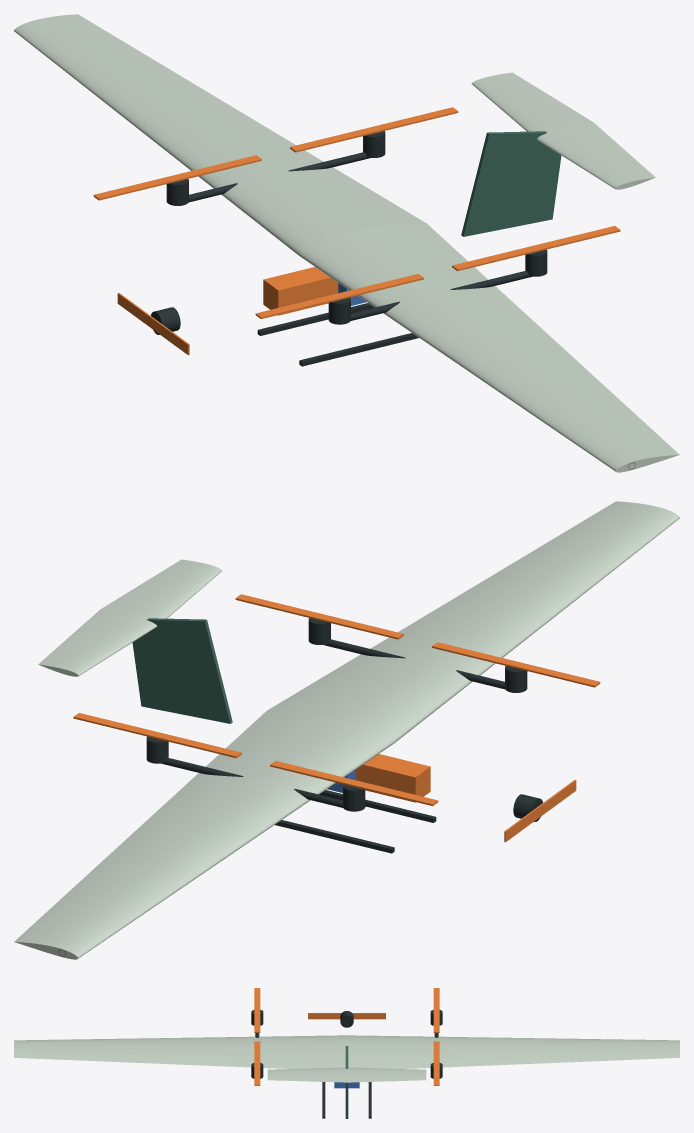
File: 03-internal.glb
3 renders of one model, top to bottom at view 1: azimuth 30°, elevation 25°; view 2: azimuth 150°, elevation 25°; view 3: azimuth 270°, elevation 25°, orthographic. The views are drawn at different scales.
Visible parts, largest first — view 1: wing-1, wing1, fin, tail-1, tail1, battery, prop_1_210.0, prop_1_700.0, prop_-1_210.0, prop_-1_700.0, cruise_prop, boom-1 (+3 smaller); view 2: wing1, wing-1, fin, tail1, tail-1, battery, prop_-1_210.0, prop_-1_700.0, prop_1_210.0, prop_1_700.0, cruise_prop, boom1 (+3 smaller); view 3: wing-1, wing1, tail-1, tail1, cruise_prop, prop_-1_210.0, prop_-1_700.0, prop_1_210.0, prop_1_700.0, fin.
Boxes of the visible parts, x1,y1,x2,y2 form: wing-1: (299, 223, 679, 472); wing1: (14, 14, 426, 255); fin: (461, 131, 561, 236); tail-1: (536, 122, 655, 189); tail1: (471, 72, 592, 131); battery: (263, 267, 338, 315); prop_1_210.0: (93, 155, 261, 200); prop_1_700.0: (290, 107, 458, 152); prop_-1_210.0: (255, 273, 423, 318); prop_-1_700.0: (452, 226, 620, 271); cruise_prop: (117, 293, 189, 355); boom-1: (351, 271, 532, 320); wing1: (14, 710, 394, 959); wing-1: (267, 501, 679, 742); fin: (132, 618, 232, 723); tail1: (38, 609, 157, 676); tail-1: (101, 559, 222, 618); battery: (355, 754, 430, 802); prop_-1_210.0: (432, 642, 600, 687); prop_-1_700.0: (235, 594, 403, 639); prop_1_210.0: (270, 760, 438, 805); prop_1_700.0: (73, 713, 241, 758); cruise_prop: (504, 780, 576, 842); boom1: (161, 758, 342, 807); wing-1: (14, 1035, 346, 1068); wing1: (347, 1035, 679, 1068); tail-1: (267, 1067, 346, 1082); tail1: (347, 1067, 426, 1082); cruise_prop: (308, 1013, 385, 1019); prop_-1_210.0: (254, 988, 260, 1032); prop_-1_700.0: (254, 1041, 260, 1085); prop_1_210.0: (433, 988, 439, 1032); prop_1_700.0: (433, 1041, 439, 1085); fin: (345, 1046, 348, 1118).
Bounding box in the file's own units: 1099 × 396 × 2600.
